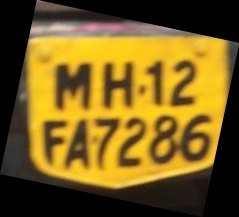character: (54, 62, 92, 110), (117, 113, 147, 167), (179, 113, 211, 161), (102, 61, 133, 109), (147, 114, 178, 162), (64, 118, 90, 168), (169, 59, 196, 105), (93, 117, 117, 168), (42, 120, 66, 163), (146, 60, 163, 107)
